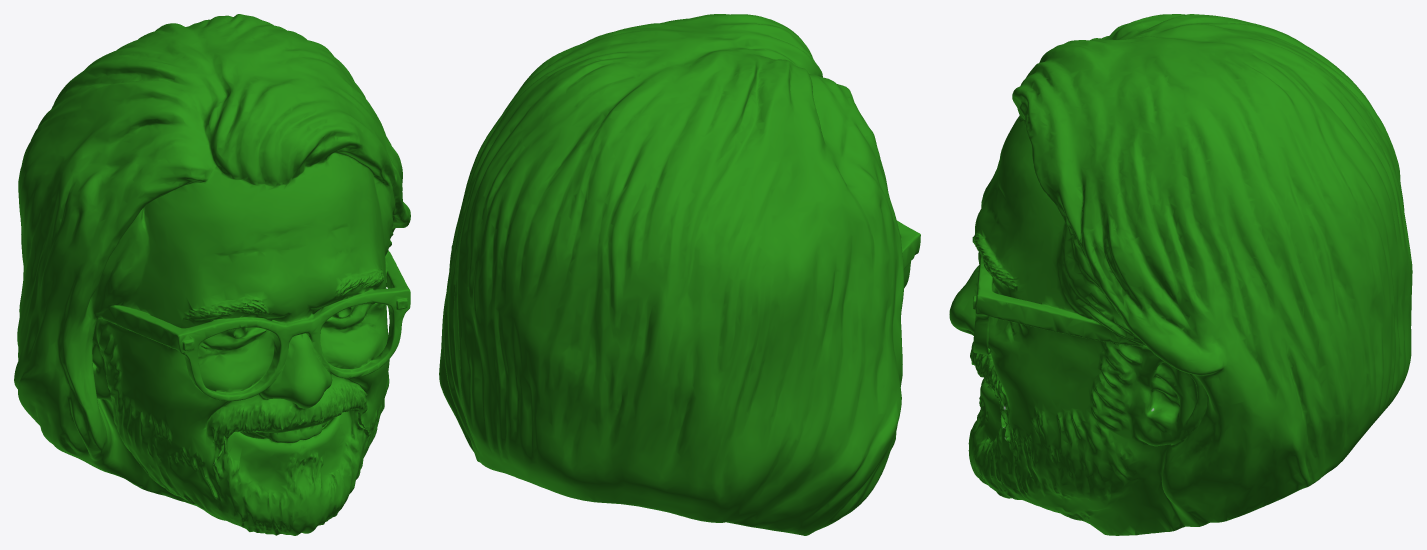
Rendered from Dean_Head.glb.
3 views of the same model, side by side, from view 1: azimuth 30°, elevation 25°; view 2: azimuth 150°, elevation 25°; view 3: azimuth 270°, elevation 25° (orthographic). The views are drawn at different scales.
Size of the model in its own units: 1.57 by 1.75 by 1.53.
